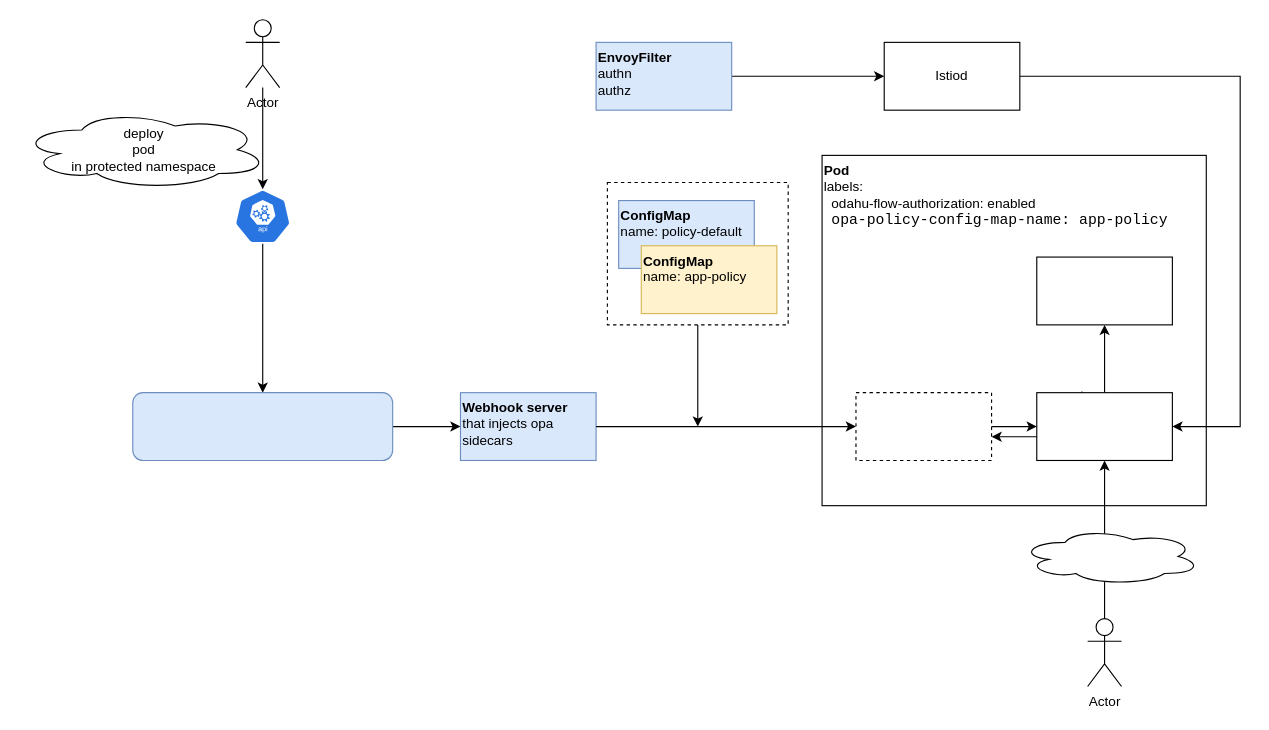
This 1269x730 diagram has some shape labels left out. Each missing label, with the centre of its shape:
"any http request" goes at [1110,556].
"App Container" goes at [1104,290].
"Istio proxy" goes at [1104,426].
"Opa Sidecar" goes at [923,426].
"Webhook Label: odahu-flow-authorization: enabled" goes at [262,426].
